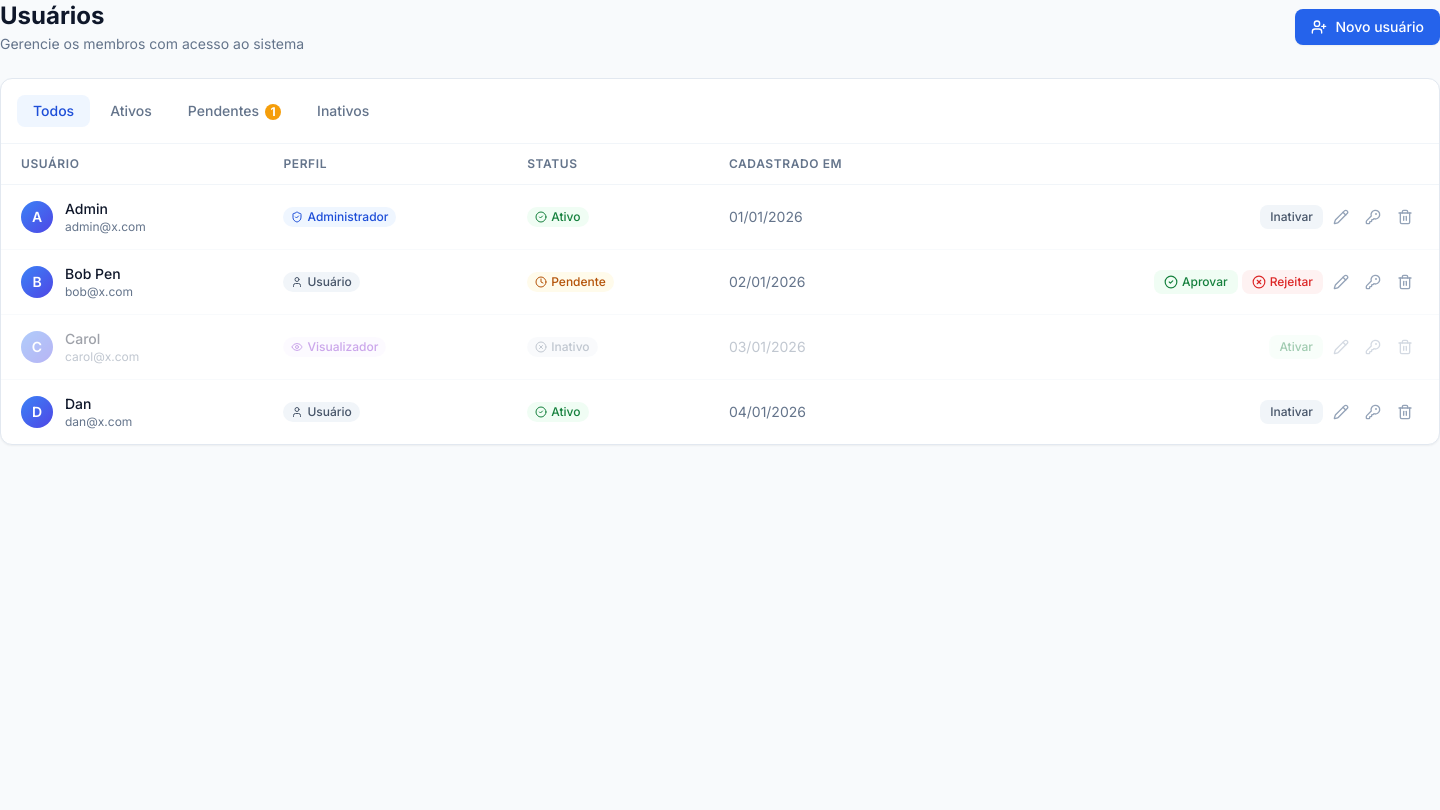
Scenario: Users — modal de edição › abre modal e o campo email aparece como read-only
Expected: the text "Dan" is shown, [65, 395, 92, 412]
Click the button titled "Editar" in the row of "dan@x.com".
click(1341, 412)  # box [1327, 398, 1355, 426]
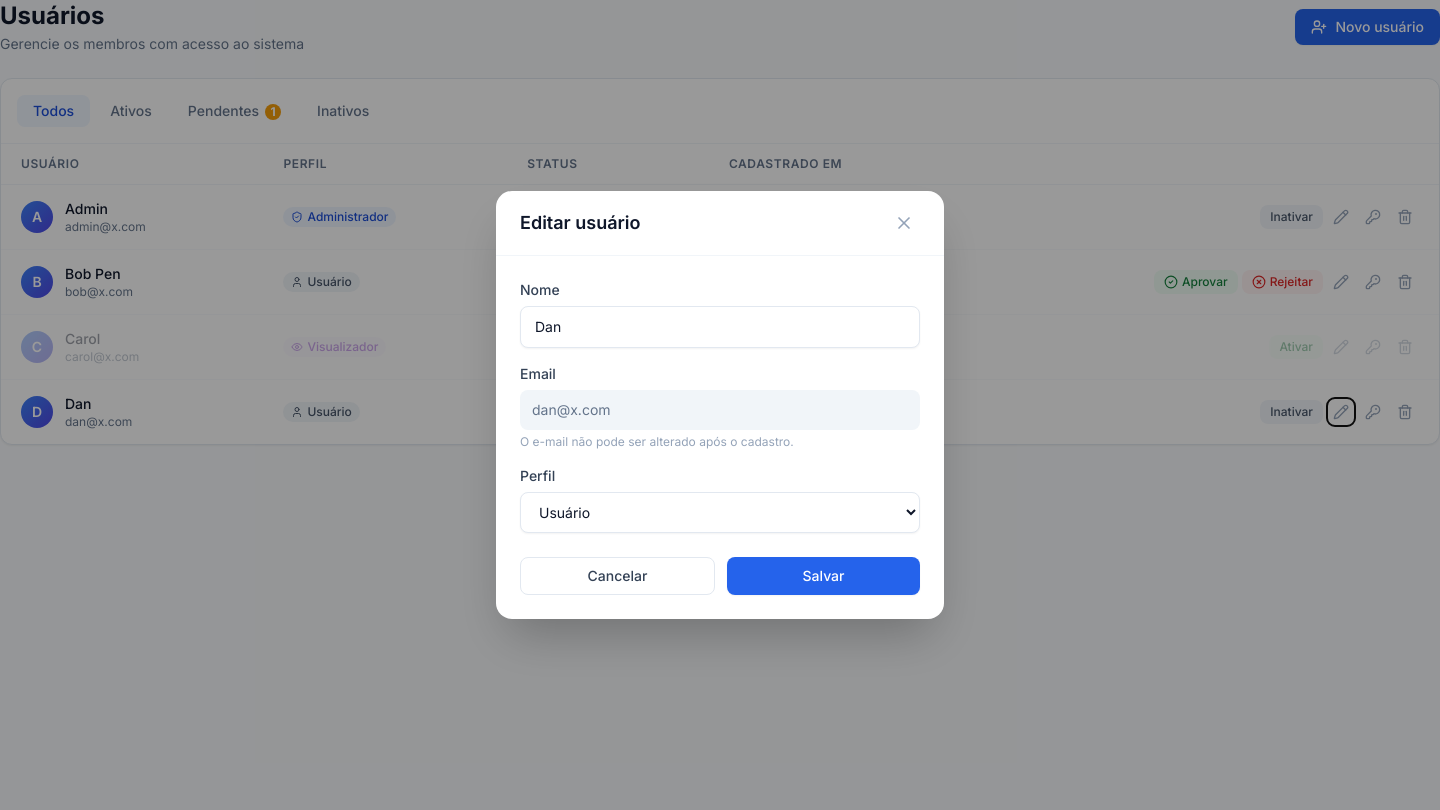
Now the field showing "Dan" is shown, box [520, 306, 920, 348]
Now the text "O e-mail não pode ser alterado após o cadastro." is shown, box [520, 434, 794, 449]
